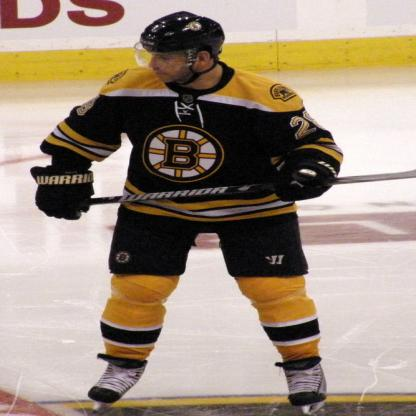Helmet: (134, 11, 226, 82)
